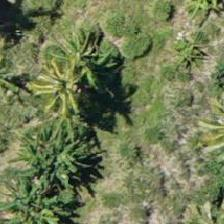coconut_tree: (30, 34, 120, 124)
